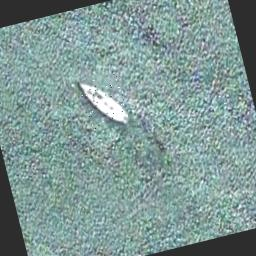boat: (77, 72, 130, 132)
